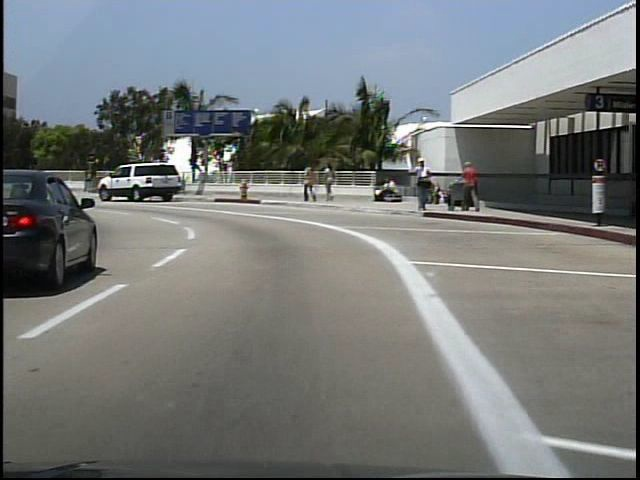person: (408, 156, 431, 217), (462, 157, 482, 213), (322, 161, 339, 206), (373, 175, 395, 205), (304, 161, 318, 205)
